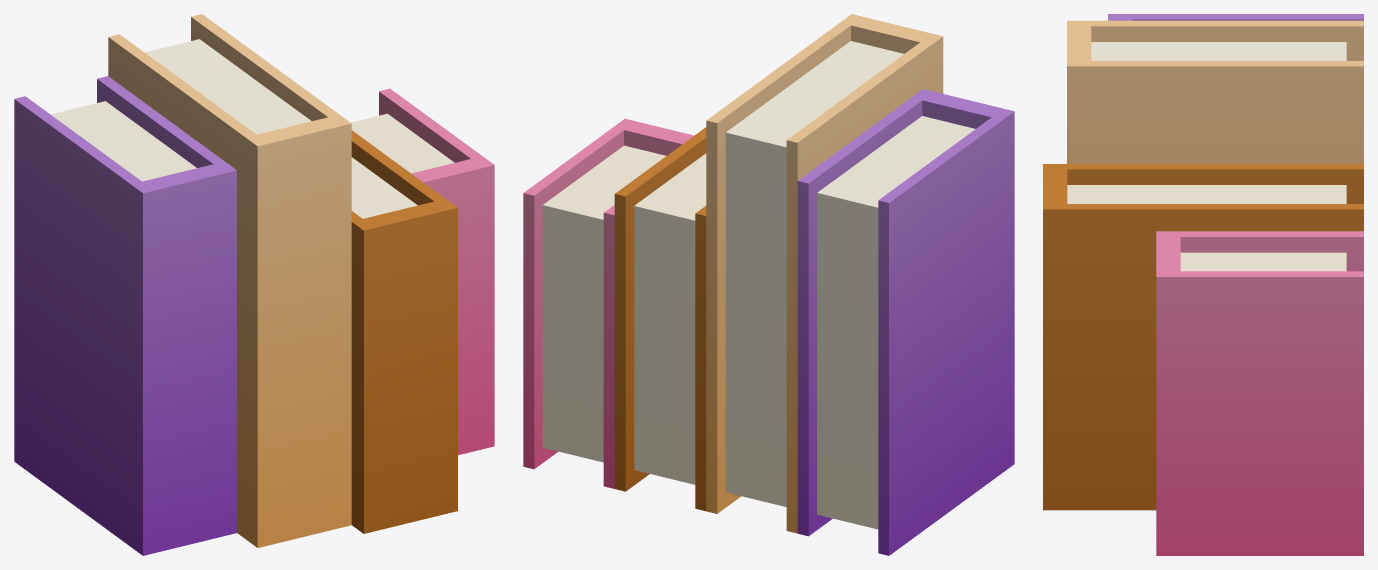
File: BookStack_Vertical_cute.fbx
The picture shows the model from 3 angles, left to right: view 1: azimuth 30°, elevation 25°; view 2: azimuth 150°, elevation 25°; view 3: azimuth 270°, elevation 25°; orthographic projection. The views are drawn at different scales.
Visible parts, largest first — view 1: BookStack_Vertical.cute; view 2: BookStack_Vertical.cute; view 3: BookStack_Vertical.cute.
Part boxes in pixels (box(x1,y1,x2,y2)): BookStack_Vertical.cute: box(14, 14, 494, 555); BookStack_Vertical.cute: box(523, 14, 1014, 555); BookStack_Vertical.cute: box(1043, 14, 1363, 555).
Size of the model in its own units: 43.56 by 44.46 by 32.44.
